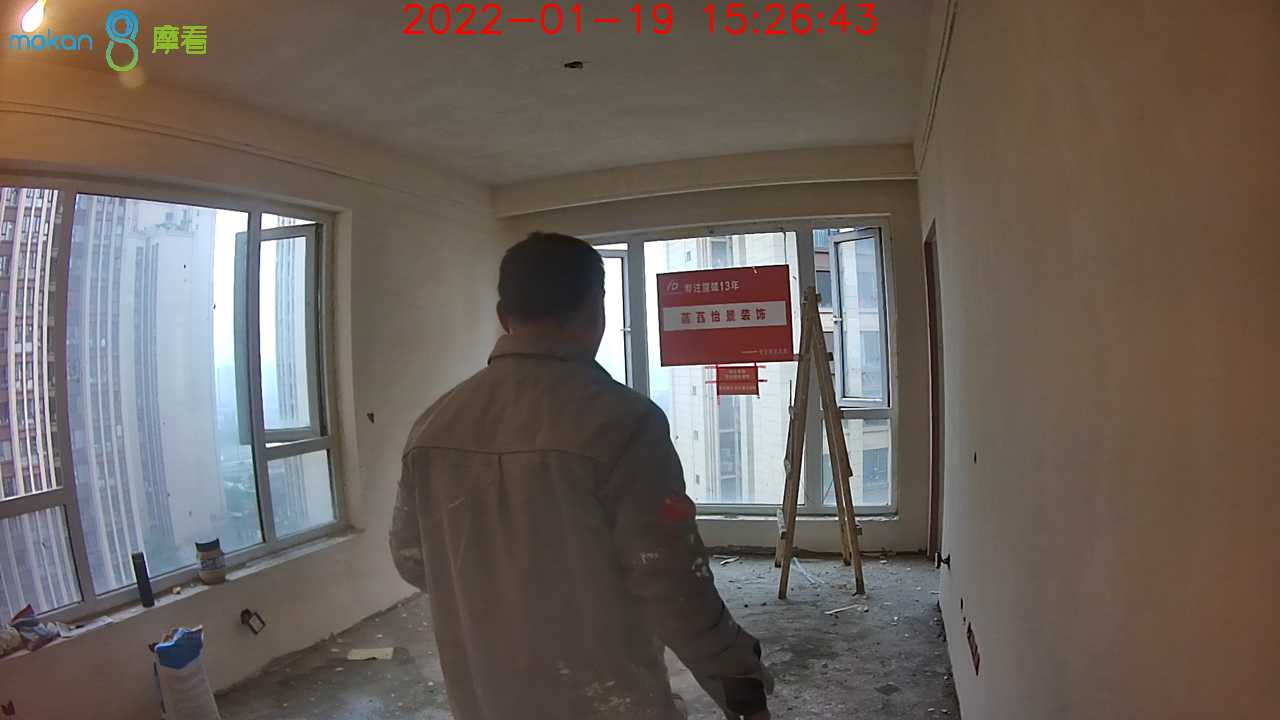people: (386, 232, 773, 720)
window: (1, 183, 355, 630)
